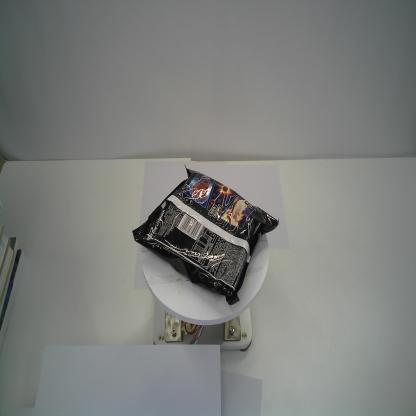Instant Noodles: (131, 162, 280, 307)
